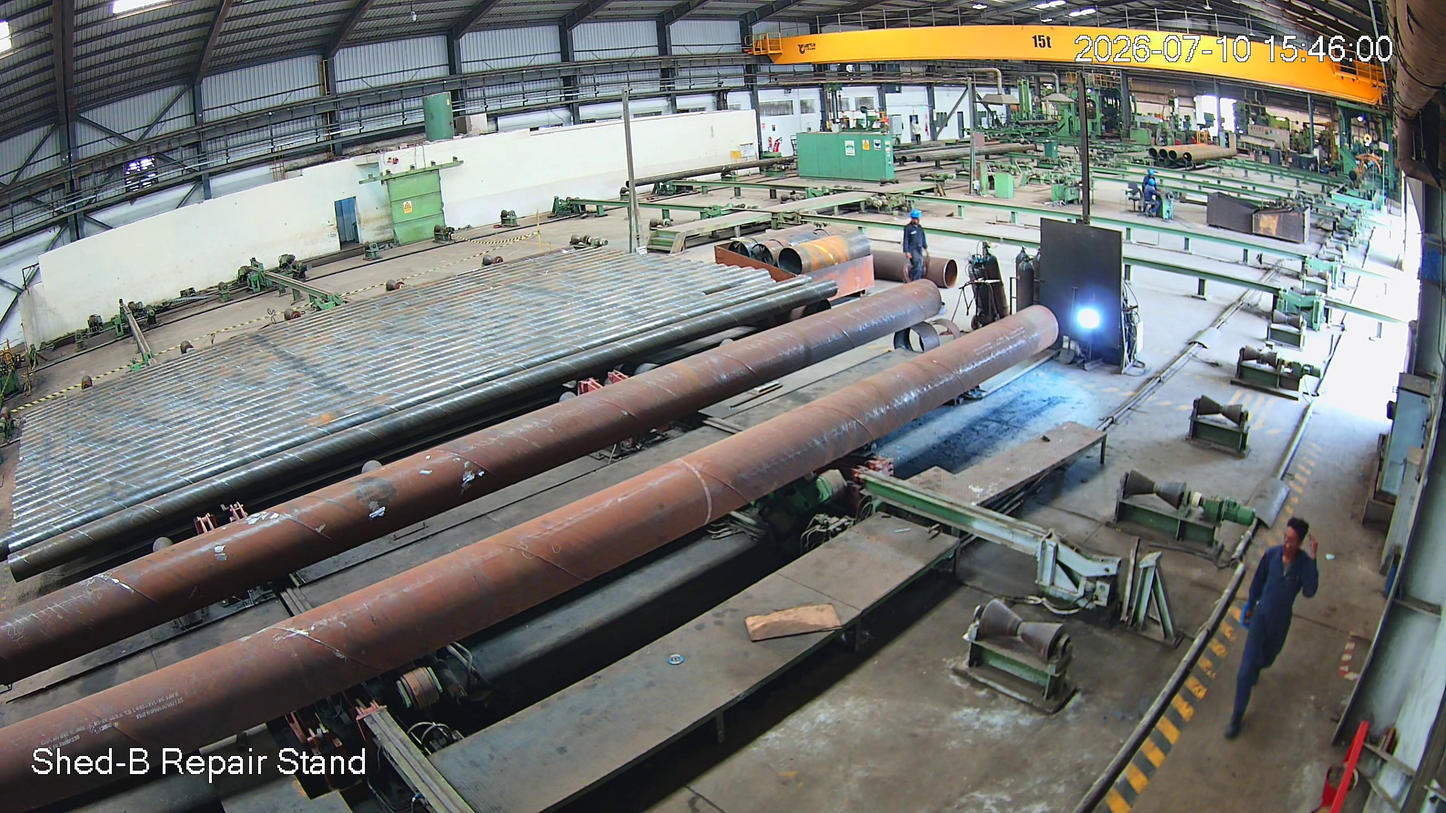Helmet: (903, 204, 924, 231)
Person: (1216, 512, 1330, 752), (901, 207, 935, 295)
